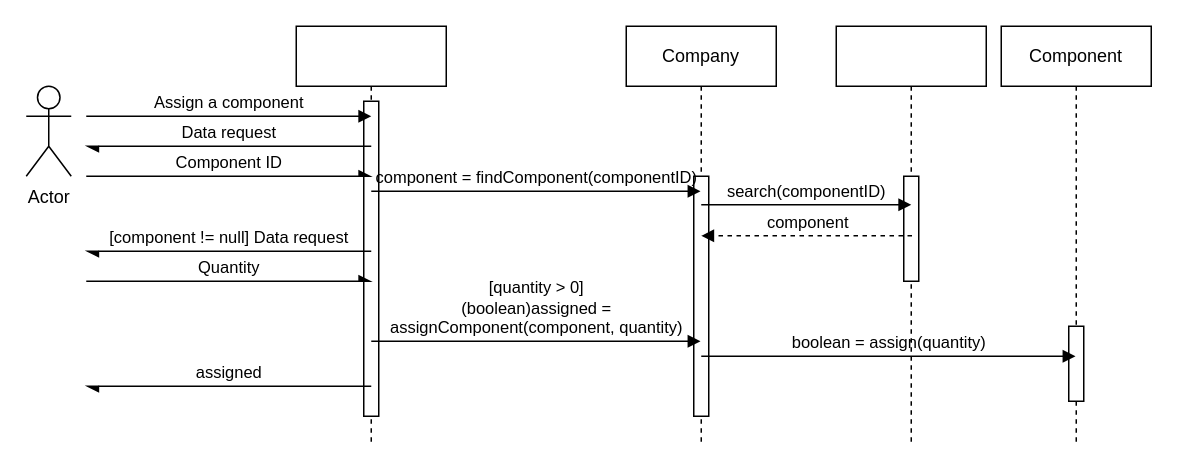
Image size: 1178x473. Some labels were removed from this diagram. The shapes that lost their labels are listed below. From the top down, each one's box as (x1, y1, x2, y2) in pixels, then its label:
(295, 25, 446, 446): User Interface
(835, 25, 986, 446): ComponentList
